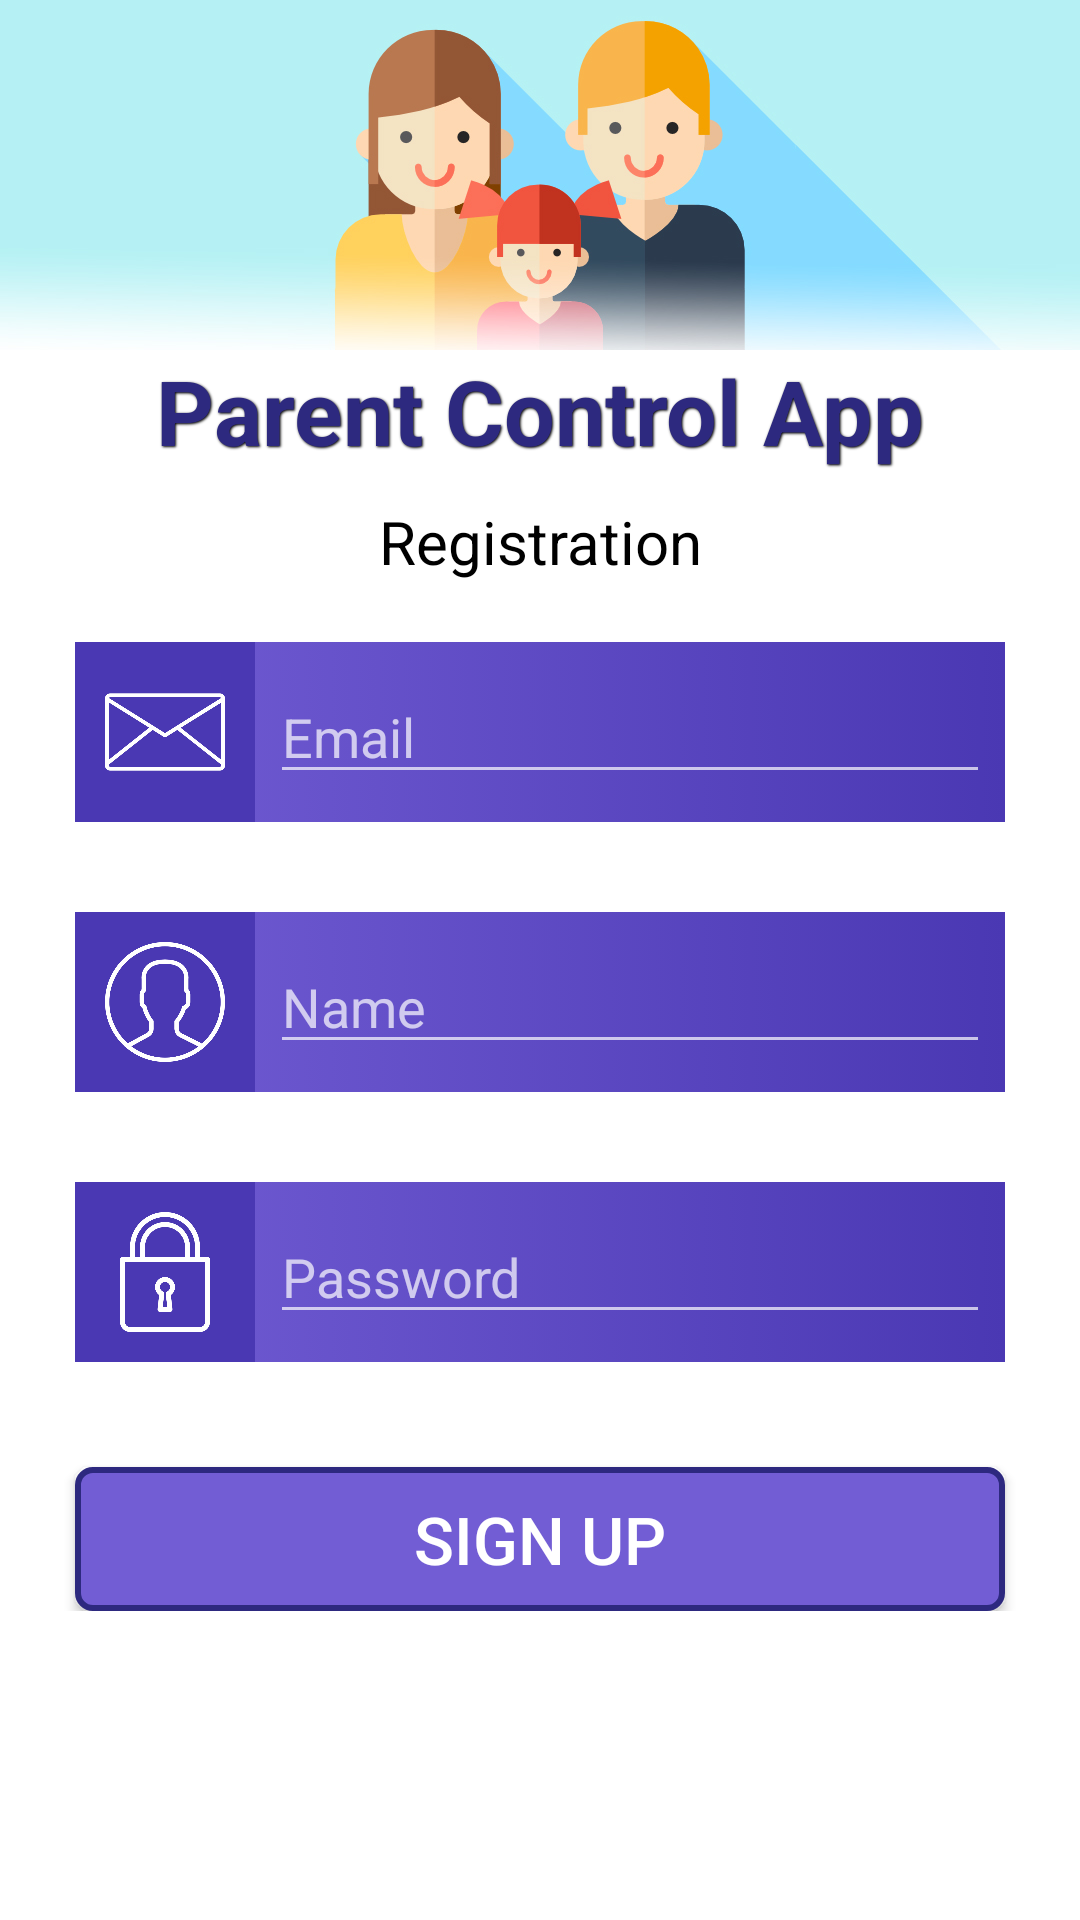

Where to tap for icons on this 1080w x 1920h app screen, as [x,y]:
user signup: [165,1002]
